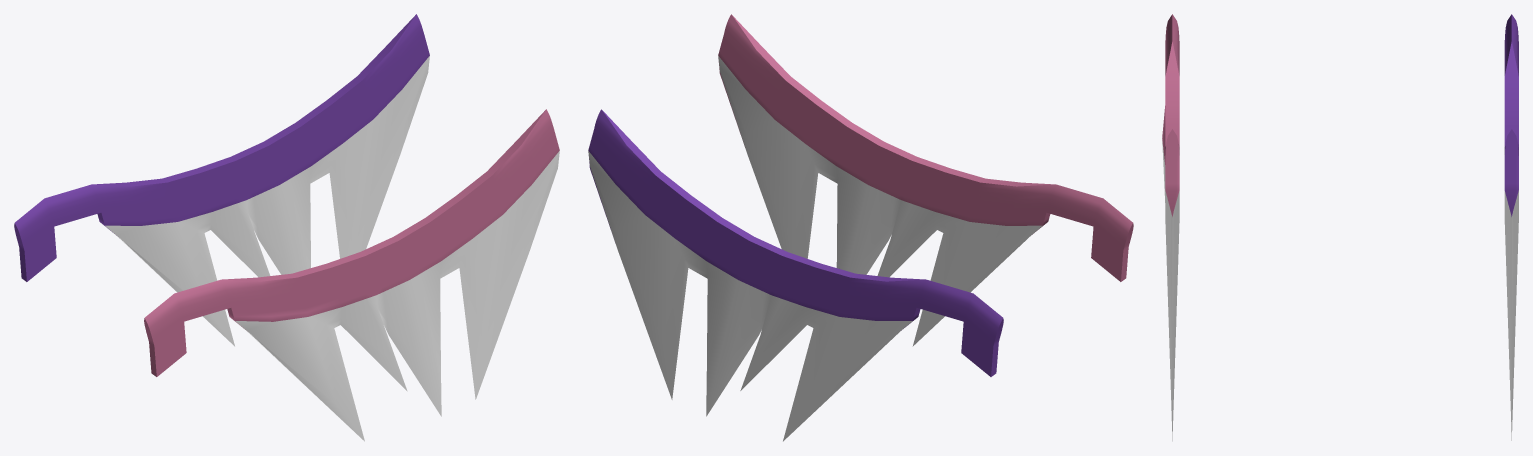
The model's file is Neo 50 Piece Wings.fbx.
3 views of the same model, side by side, from view 1: azimuth 30°, elevation 25°; view 2: azimuth 150°, elevation 25°; view 3: azimuth 270°, elevation 25° (orthographic). The views are drawn at different scales.
Parts seen in each view (by area): view 1: wing, wing1; view 2: wing1, wing; view 3: wing, wing1.
Boxes of the visible parts, x1,y1,x2,y2 form: wing: [144, 109, 559, 441]; wing1: [14, 14, 429, 346]; wing1: [588, 109, 1003, 441]; wing: [718, 14, 1133, 346]; wing: [1162, 14, 1179, 441]; wing1: [1504, 14, 1518, 440].
Size of the model in its own units: 3.68 by 2.45 by 2.1.
